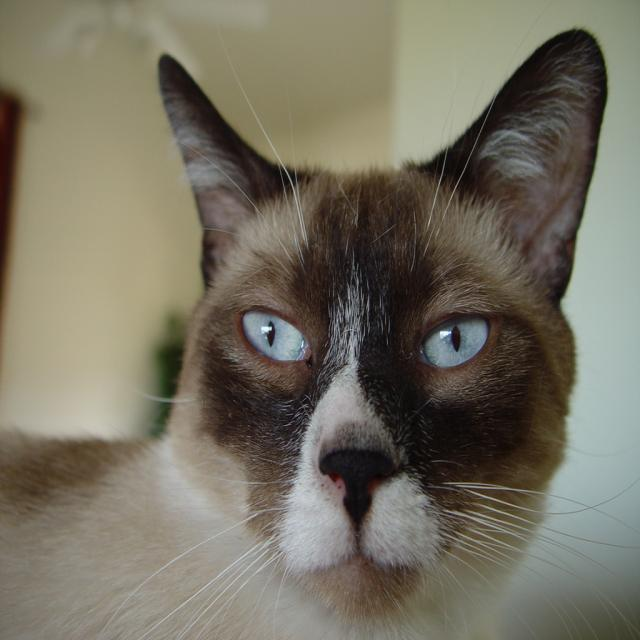cat: (3, 26, 639, 639)
